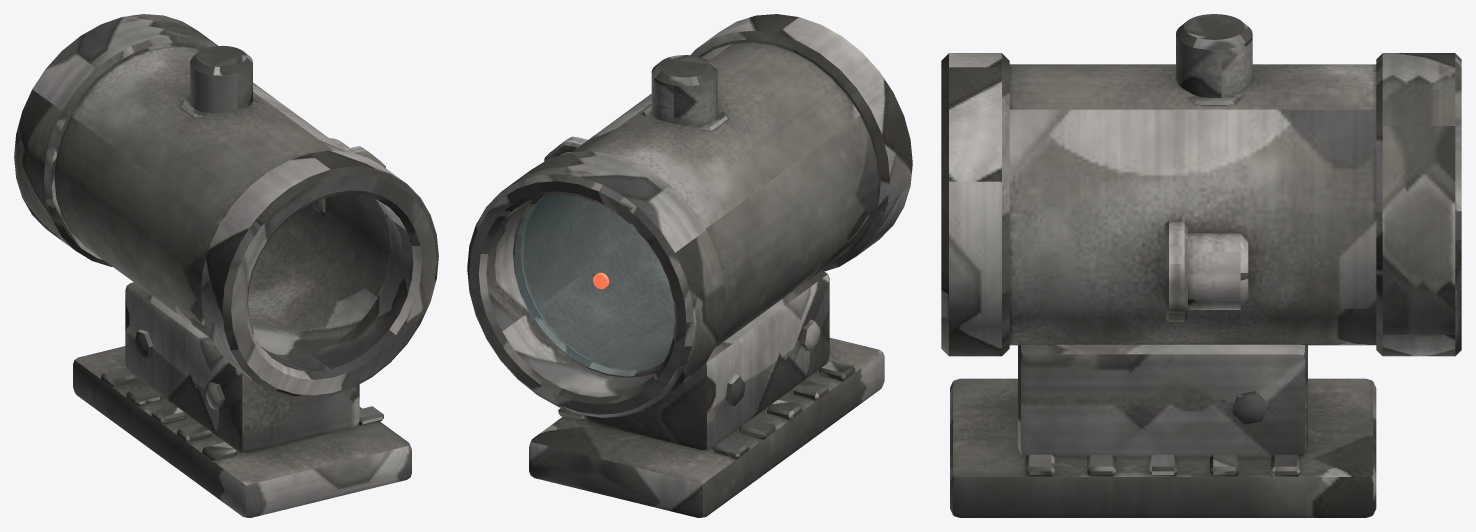
File: red_dot.glb
3 renders of one model, left to right at view 1: azimuth 30°, elevation 25°; view 2: azimuth 150°, elevation 25°; view 3: azimuth 270°, elevation 25°, orthographic. The views are drawn at different scales.
Visible parts, largest first — view 1: tube_body, hood_rear, rail, riser, hood_front, turret_top; view 2: tube_body, hood_front, red_dot_glass, rail, riser, hood_rear, turret_top, rail_bar_0_-1, rail_bar_4_-1, rail_bar_2_-1, rail_bar_3_-1, rail_bar_1_-1; view 3: tube_body, rail, riser, hood_front, hood_rear, turret_top, turret_side, turret_side_cap, riser_screw, rail_bar_0_1, rail_bar_2_1, rail_bar_4_1 (+2 smaller).
Boxes of the visible parts, x1=… form: tube_body: x1=54, y1=46, x2=391, y2=355; hood_rear: x1=200, y1=150, x2=438, y2=398; rail: x1=73, y1=346, x2=411, y2=517; riser: x1=125, y1=282, x2=359, y2=453; hood_front: x1=14, y1=14, x2=217, y2=266; turret_top: x1=190, y1=46, x2=252, y2=112; tube_body: x1=513, y1=42, x2=878, y2=377; hood_front: x1=467, y1=151, x2=725, y2=417; red_dot_glass: x1=514, y1=195, x2=674, y2=374; rail: x1=529, y1=337, x2=884, y2=517; riser: x1=584, y1=271, x2=829, y2=449; hood_rear: x1=690, y1=14, x2=912, y2=271; turret_top: x1=651, y1=55, x2=717, y2=125; rail_bar_0_-1: x1=712, y1=438, x2=749, y2=459; rail_bar_4_-1: x1=819, y1=361, x2=855, y2=381; rail_bar_2_-1: x1=766, y1=399, x2=802, y2=420; rail_bar_3_-1: x1=792, y1=380, x2=828, y2=400; rail_bar_1_-1: x1=739, y1=419, x2=775, y2=439; tube_body: x1=1009, y1=64, x2=1376, y2=345; rail: x1=950, y1=378, x2=1376, y2=517; riser: x1=1018, y1=344, x2=1307, y2=457; hood_front: x1=1376, y1=53, x2=1461, y2=356; hood_rear: x1=941, y1=53, x2=1009, y2=356; turret_top: x1=1176, y1=14, x2=1252, y2=97; turret_side: x1=1188, y1=233, x2=1248, y2=309; turret_side_cap: x1=1165, y1=221, x2=1187, y2=321; riser_screw: x1=1231, y1=391, x2=1268, y2=424; rail_bar_0_1: x1=1271, y1=454, x2=1300, y2=476; rail_bar_2_1: x1=1148, y1=454, x2=1177, y2=476; rail_bar_4_1: x1=1025, y1=454, x2=1054, y2=476.
Bounding box in the file's own units: 0.0419 × 0.0575 × 0.061.
3 materials, 1 textured.
